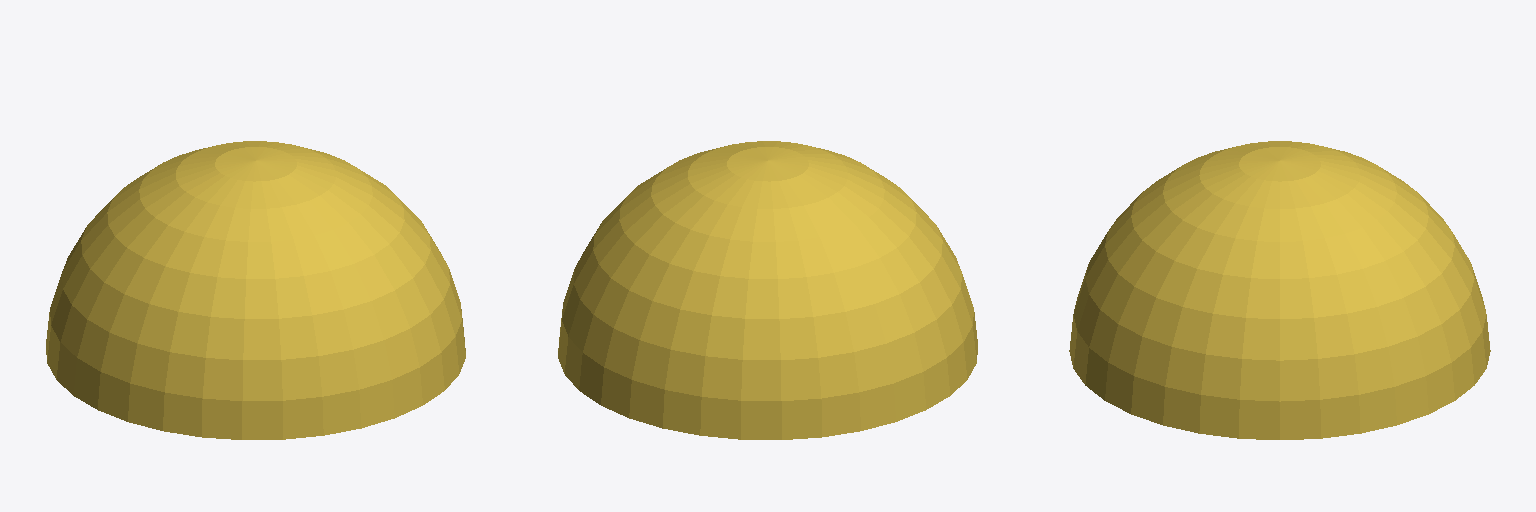
The model's file is hemisphere.obj.
The picture shows the model from 3 angles: view 1: azimuth 30°, elevation 25°; view 2: azimuth 150°, elevation 25°; view 3: azimuth 270°, elevation 25°; orthographic projection.
Parts seen in each view (by area): view 1: Sphere001; view 2: Sphere001; view 3: Sphere001.
Boxes of the visible parts, <box> form: Sphere001: <box>46,141,465,439</box>; Sphere001: <box>558,141,977,439</box>; Sphere001: <box>1069,141,1490,439</box>.
Size of the model in its own units: 86.76 by 43.38 by 86.76.